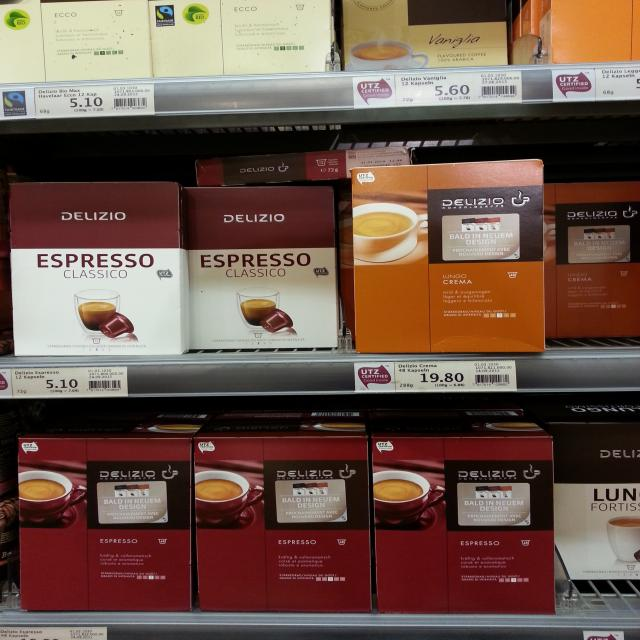Coffee: (350, 159, 544, 352), (0, 178, 190, 357), (8, 438, 188, 612), (375, 436, 550, 612), (199, 439, 371, 613), (184, 185, 340, 351), (553, 182, 640, 346), (150, 0, 328, 78), (559, 418, 640, 580), (0, 0, 153, 82), (340, 0, 515, 66)
